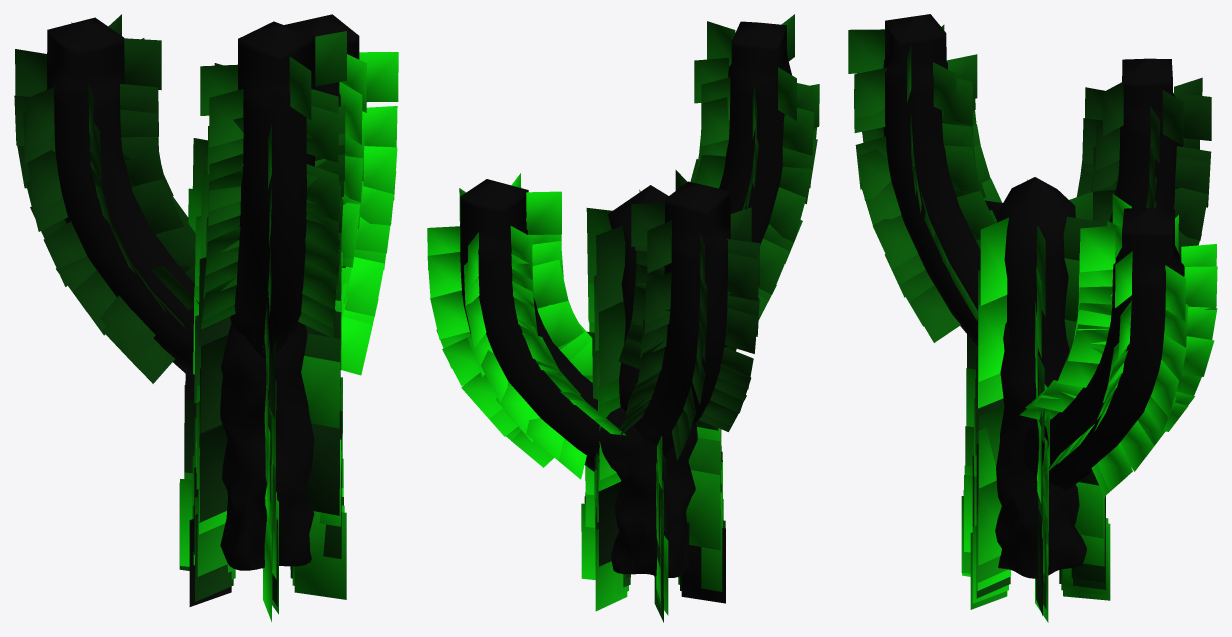
Rendered from Cactus_1_7.fbx.
3 views of the same model, side by side, from view 1: azimuth 30°, elevation 25°; view 2: azimuth 150°, elevation 25°; view 3: azimuth 270°, elevation 25° (orthographic). The views are drawn at different scales.
Visible parts, largest first — view 1: Cactus_1_7; view 2: Cactus_1_7; view 3: Cactus_1_7.
Part boxes in pixels (bbox=[...]): Cactus_1_7: bbox=[14, 14, 398, 621]; Cactus_1_7: bbox=[427, 14, 819, 622]; Cactus_1_7: bbox=[848, 14, 1217, 622].
Bounding box in the file's own units: 153 × 250 × 152.
